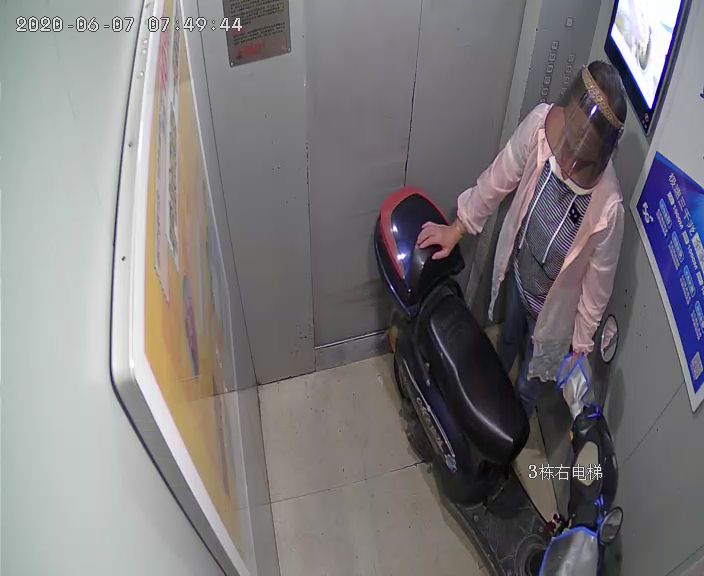Electric-bicycle: (370, 184, 624, 573)
